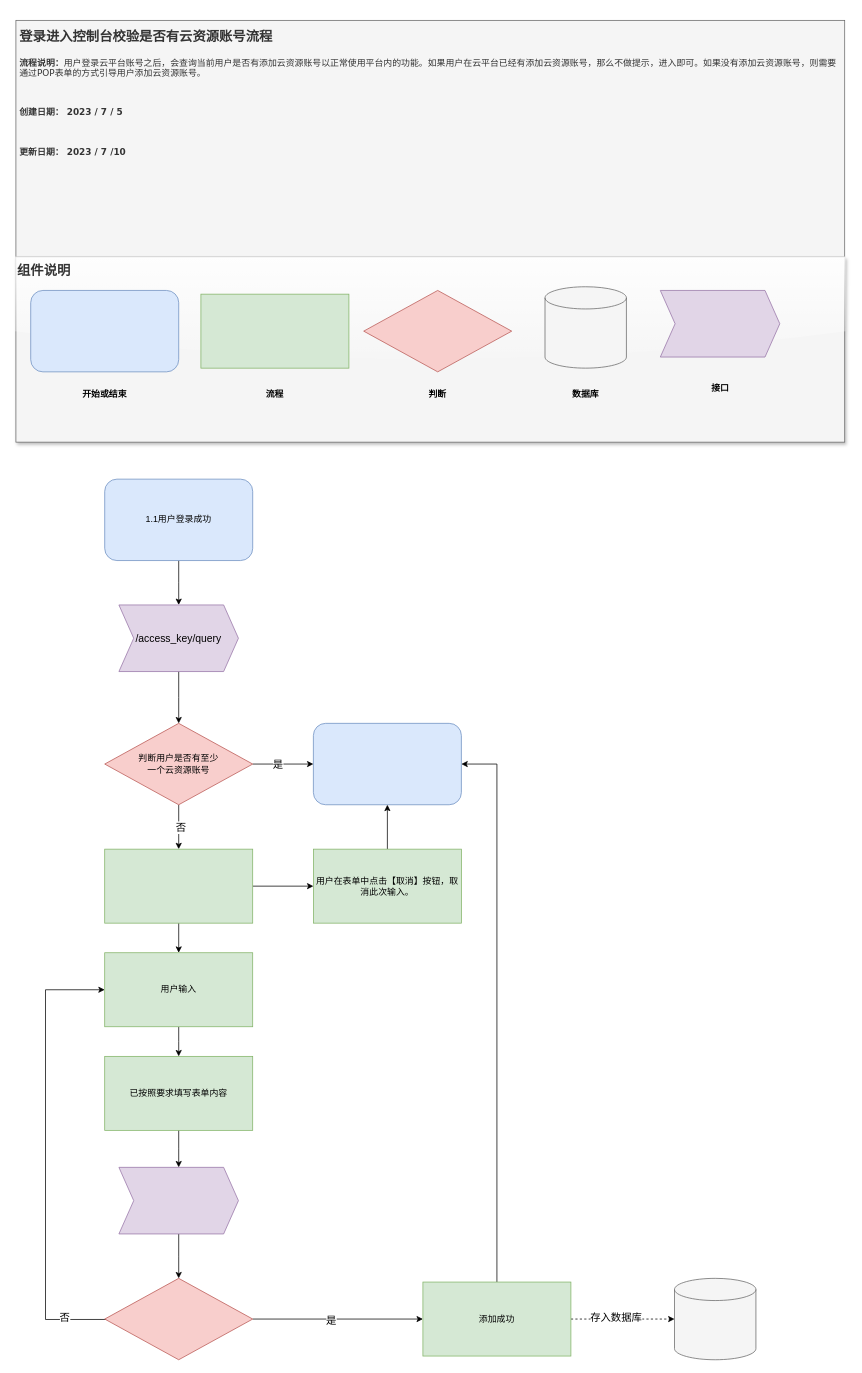
Some shapes in this 862 by 1373 pixel diagram are drawn without their labels. The centre of each missing label's shape, as x and y in pixels:
/access_key/add: point (178, 1200)
t_access_account: point (715, 1319)
前端POP弹窗提示用户按照表单提示输入信息: point (178, 885)
状态是否可用: point (178, 1319)
进入Home页面成功: point (387, 764)
